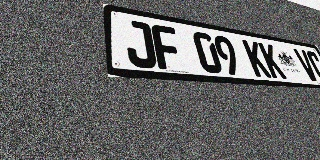0: (191, 31, 224, 74)
9: (212, 34, 243, 75)
C: (305, 50, 320, 82)
F: (150, 24, 184, 71)
J: (123, 19, 158, 69)
K: (242, 39, 272, 78), (258, 42, 287, 79)
V: (293, 48, 320, 81)
